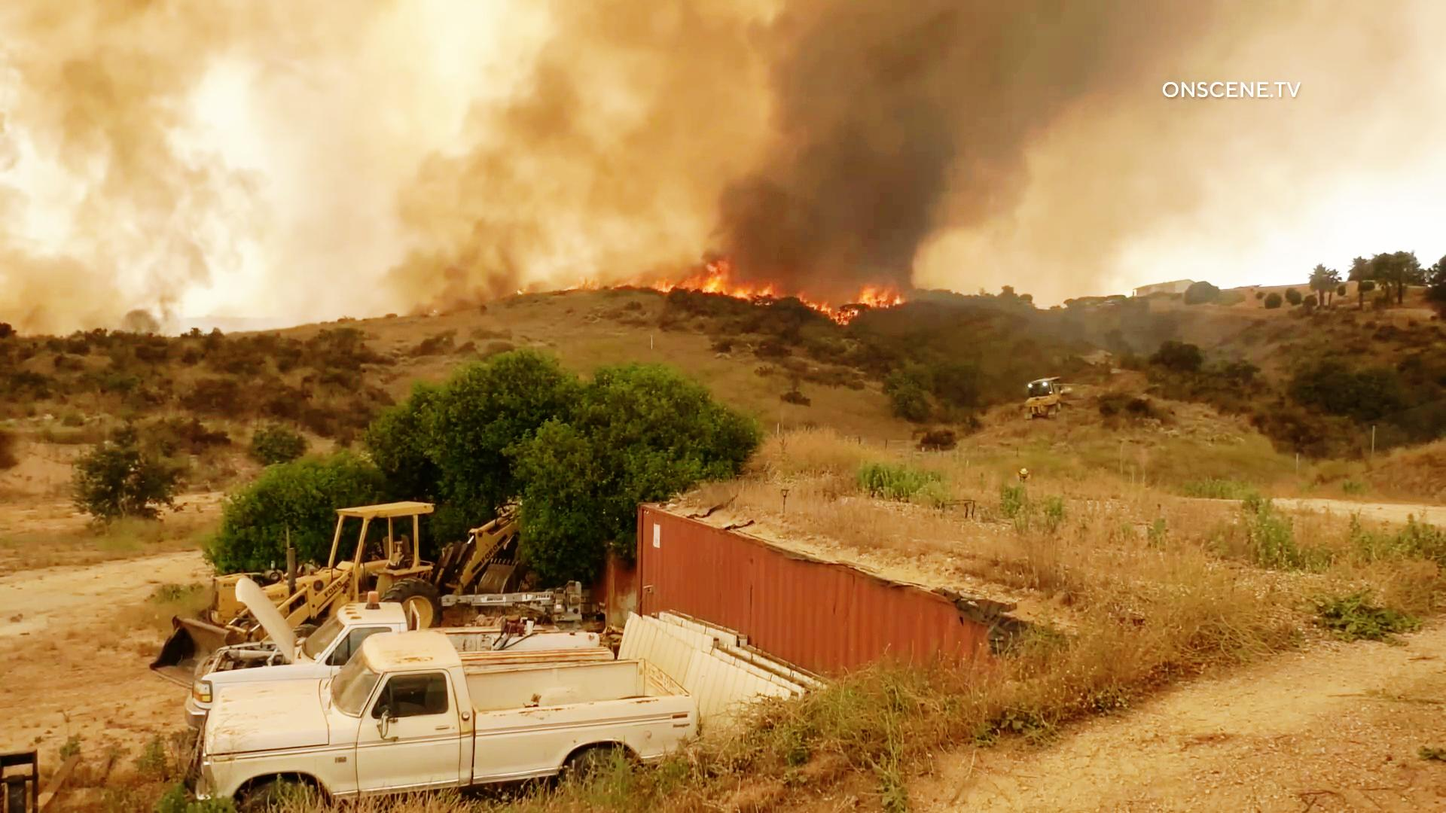fire: (682, 236, 773, 303), (829, 269, 927, 320)
smoke: (753, 34, 921, 255), (69, 145, 275, 321), (413, 219, 517, 312)
